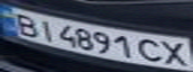1: (112, 33, 136, 60)
4: (54, 21, 78, 46)
8: (72, 26, 93, 52)
9: (90, 29, 115, 55)
B: (9, 10, 42, 37)
C: (136, 36, 166, 65)
I: (33, 16, 60, 42)
X: (157, 38, 193, 70)
